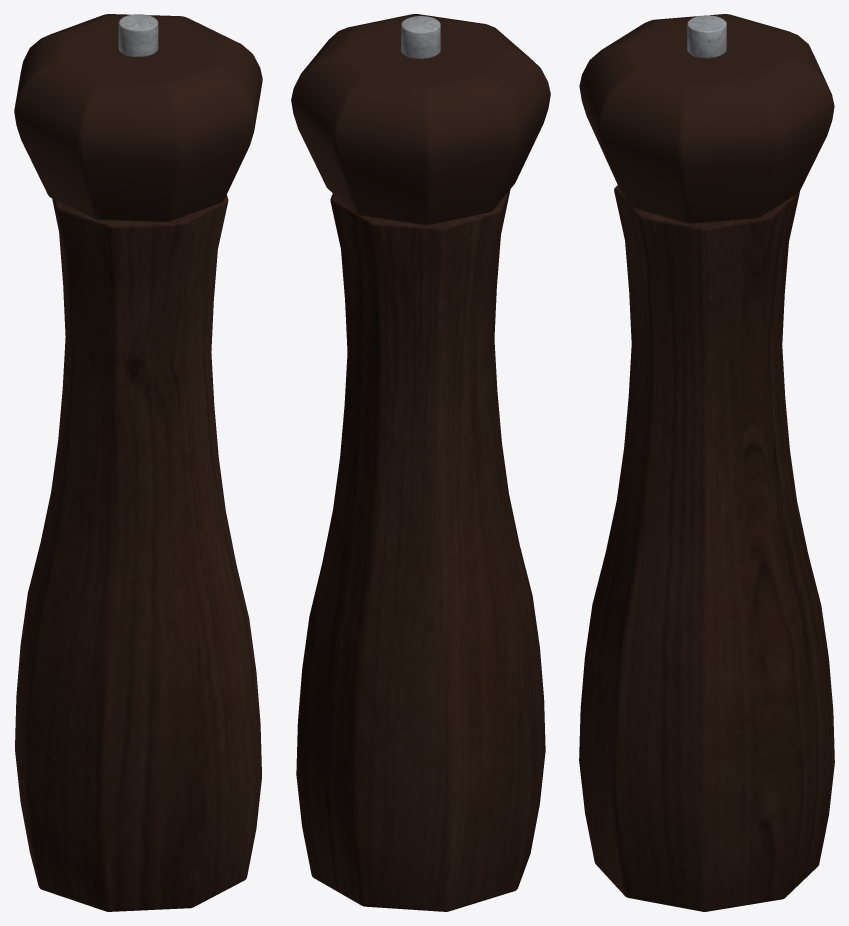
The model's file is Pimienta.fbx.
3 renders of one model, left to right at view 1: azimuth 30°, elevation 25°; view 2: azimuth 150°, elevation 25°; view 3: azimuth 270°, elevation 25°, orthographic.
Parts seen in each view (by area): view 1: M_S&PmR.001; view 2: M_S&PmR.001; view 3: M_S&PmR.001.
Boxes of the visible parts, x1=… form: M_S&PmR.001: x1=14, y1=14, x2=262, y2=911; M_S&PmR.001: x1=291, y1=14, x2=550, y2=911; M_S&PmR.001: x1=579, y1=14, x2=834, y2=911.
Size of the model in its own units: 21.78 by 79.14 by 21.78.
Materials: 5 (2 with a texture image).
